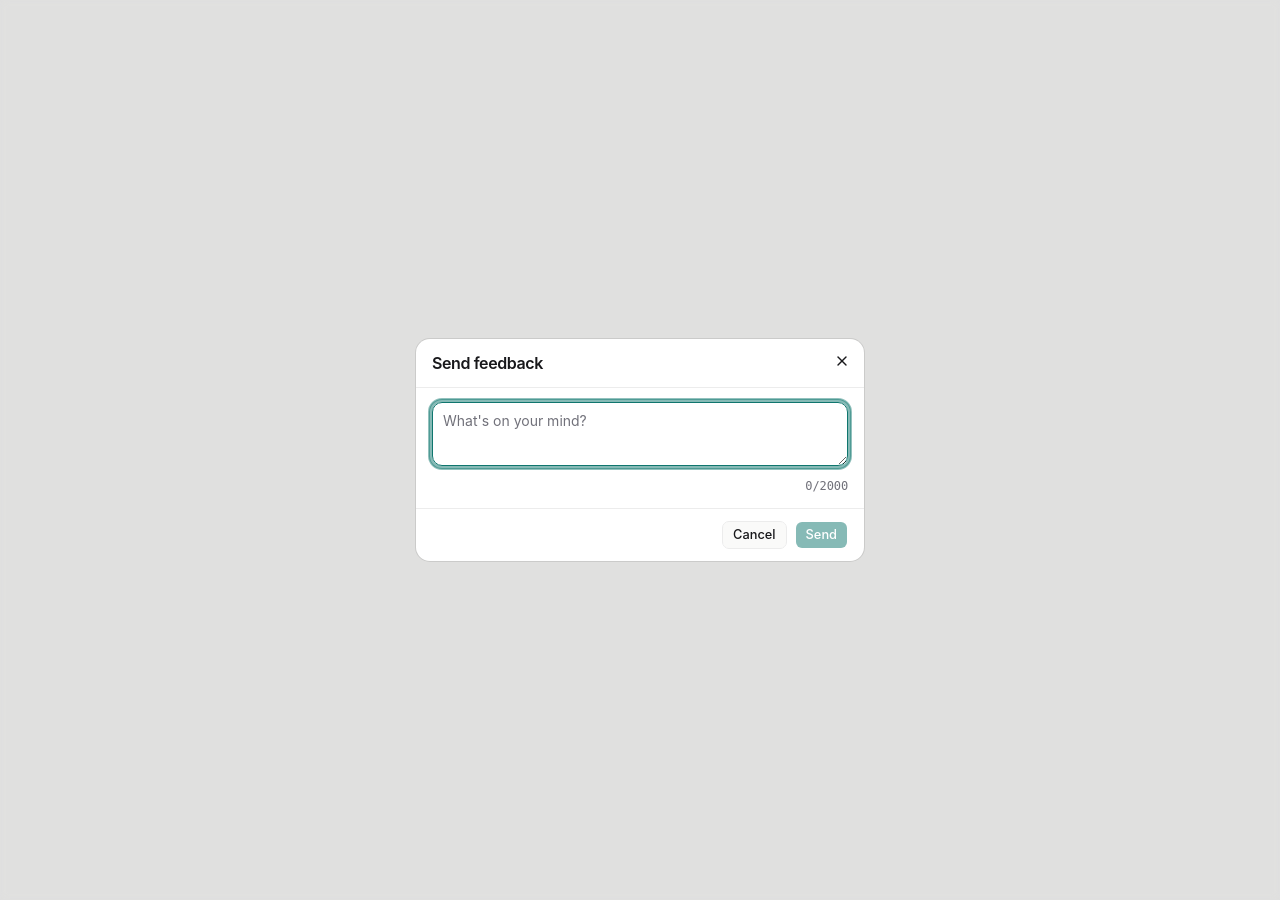
Test: FeedbackModal › updates the char counter as the user types
Type "hello" into the text box named "Feedback" at [640, 434], box [432,402,848,466]
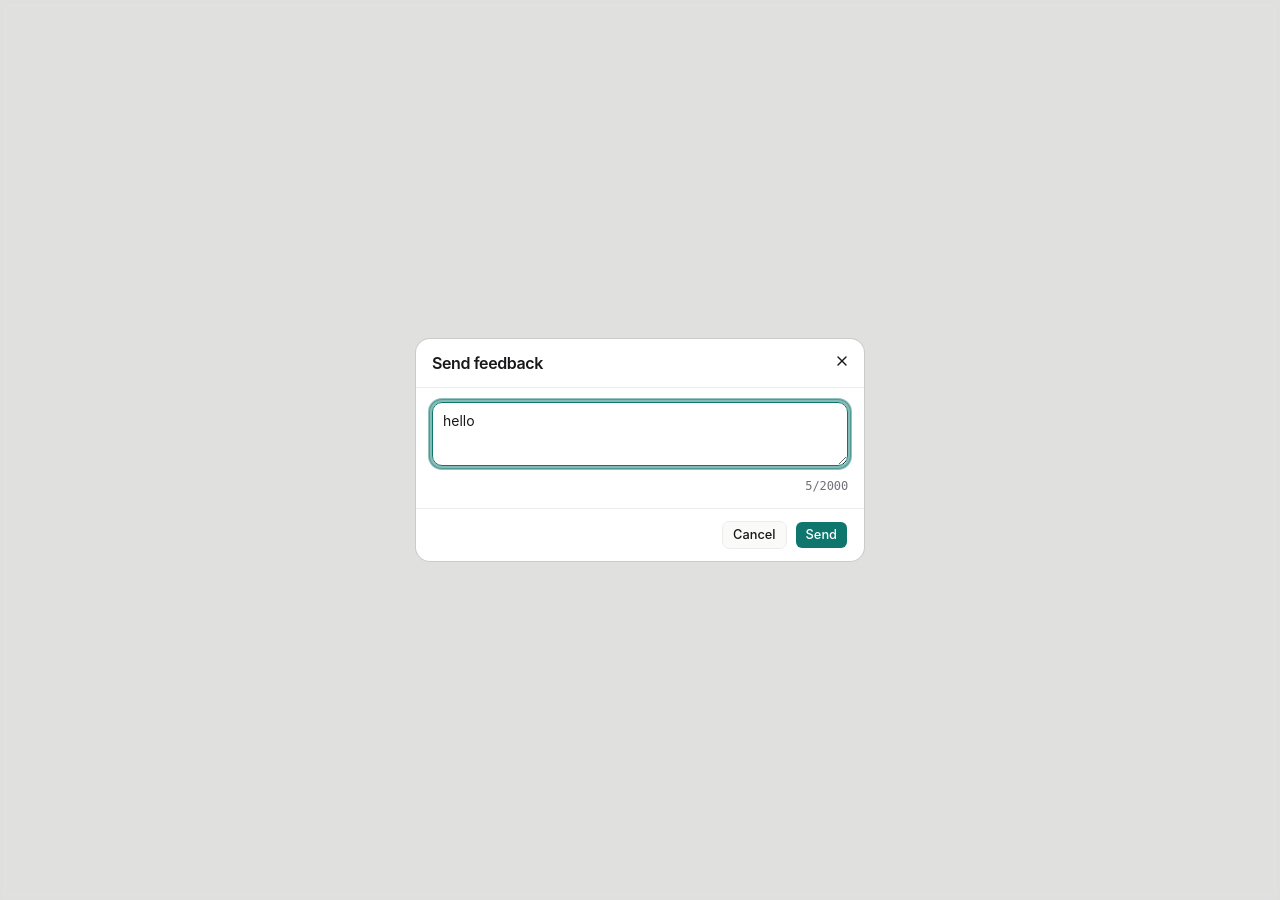
Now the text "5/2000" is shown, box [805,478,848,494]
